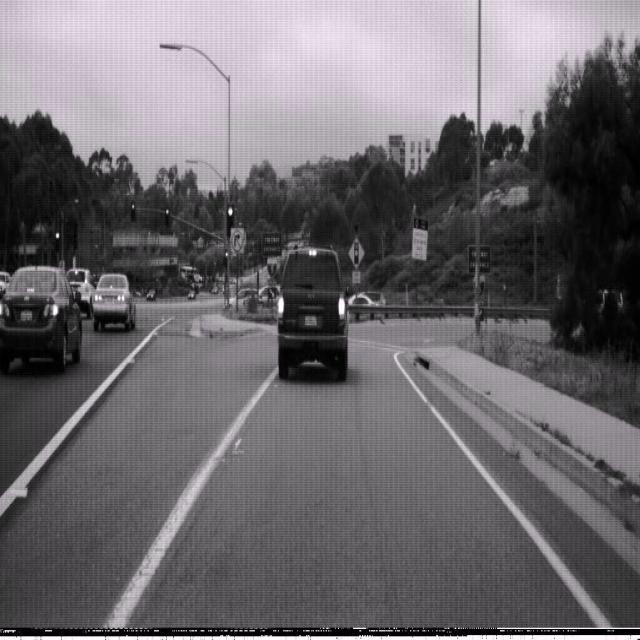noRightTurn: (230, 227, 243, 252)
